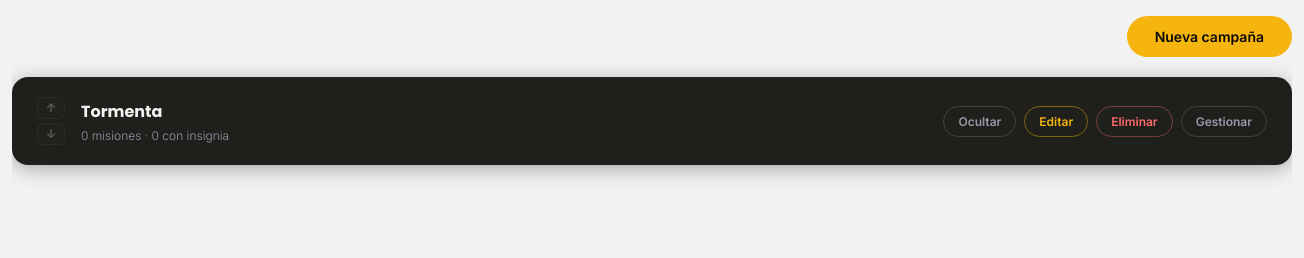
it: hiding a campaign › reports the error and refetches when the write fails
Check: the heading "Tormenta" is shown, box [81, 100, 162, 123]
Click the button "Ocultar" at [980, 121], box [944, 106, 1016, 136]
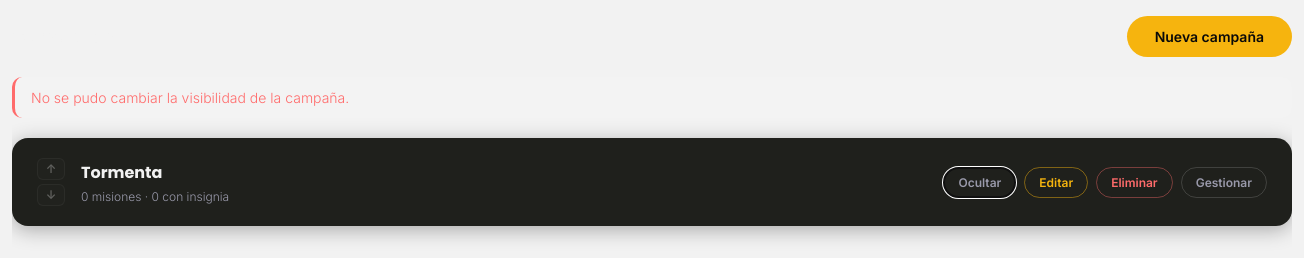
Check: the message shows "No se pudo cambiar la visibilidad", box [31, 89, 349, 106]
